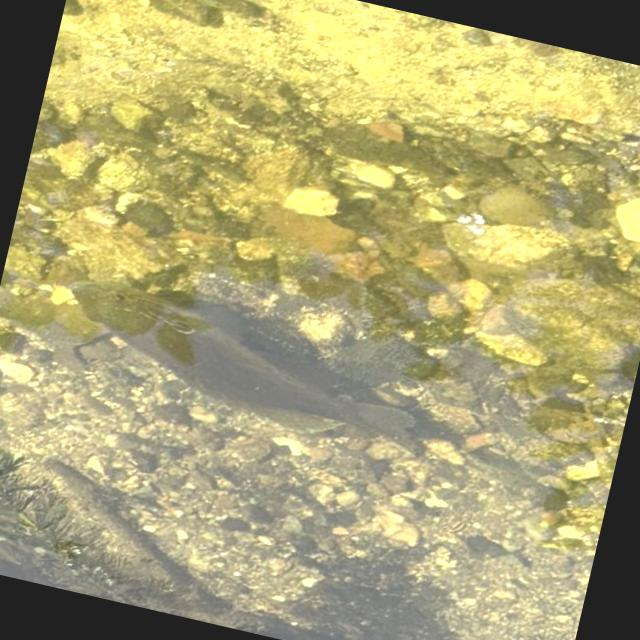Gunes Levregi: (41, 258, 458, 474)
